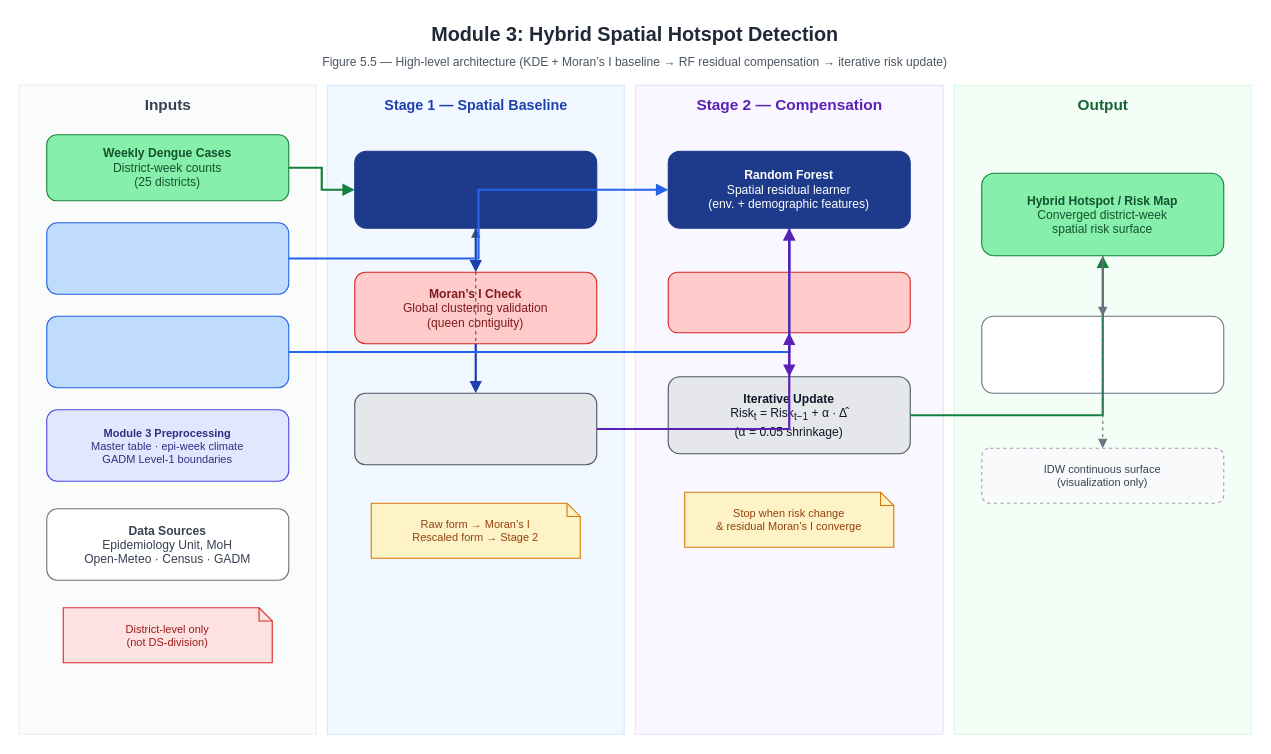
Image size: 1271x754. Some labels were removed from this diagram. Each missing label, with the box of its shape:
Climate Features Rainfall / temperature lags Climate anomalies · monsoon: (46, 222, 289, 294)
Evaluation Moran’s I · spatial CV MAE / RMSE: (981, 315, 1224, 393)
KDE Baseline Gaussian kernel over centroids (case-weighted · Silverman bw): (354, 150, 597, 228)
KDE_baseline Per district-week spatial risk surface: (354, 392, 597, 465)
Residual Actual − Current_Risk: (667, 271, 910, 333)
Spatial Covariates Elevation · population density District centroids (GADM L1): (46, 315, 289, 388)
